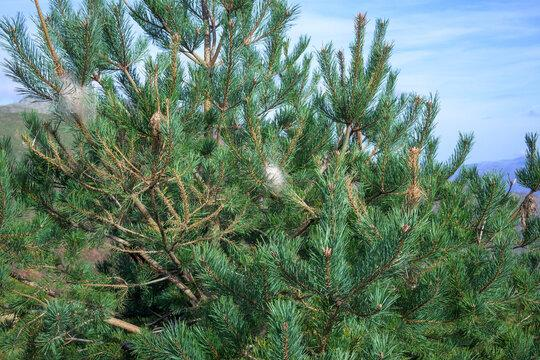thaumatopoea pityocampa jajno gnijezdo: (48, 75, 96, 135), (258, 160, 291, 205)
